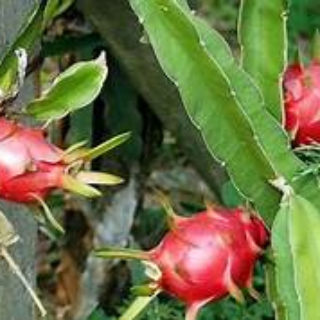thanh_long: (108, 195, 276, 316)
